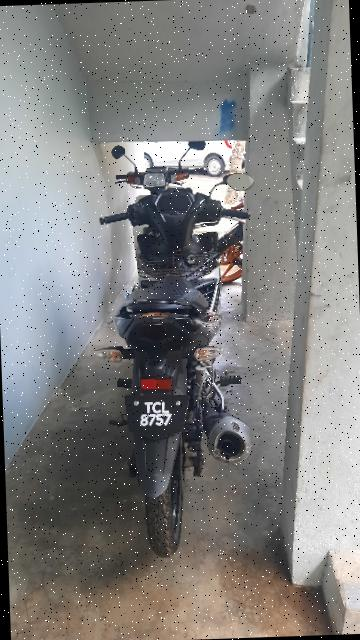License_Plate: (121, 384, 203, 447)
motorcycle: (94, 162, 280, 564)
